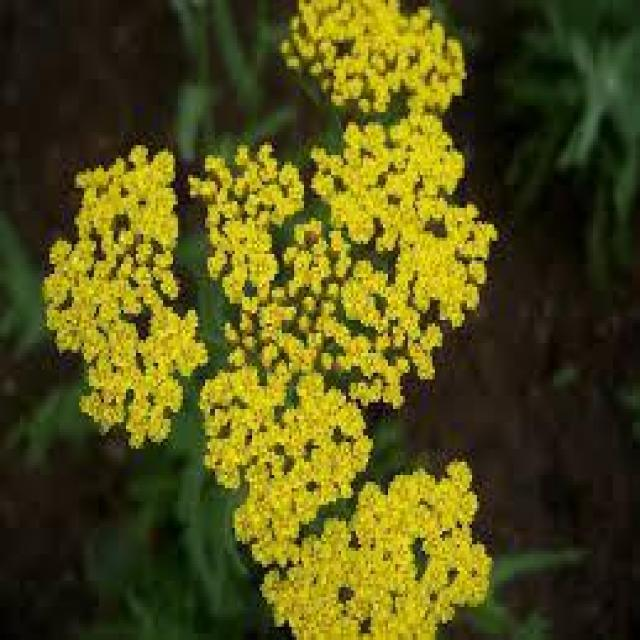other: (55, 121, 500, 427), (183, 386, 506, 633), (287, 4, 478, 125)
